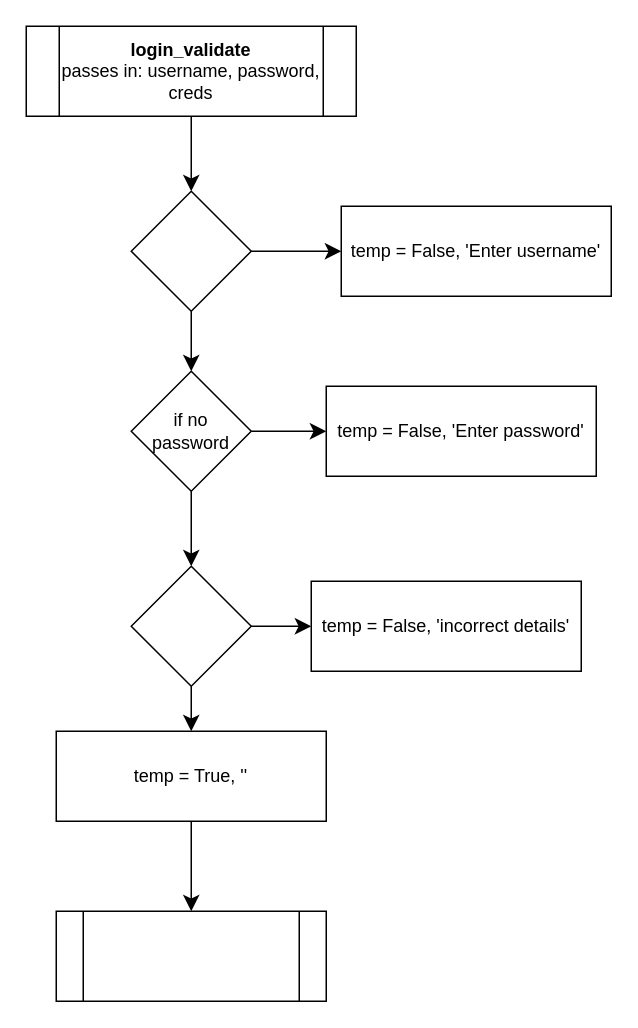
This 638x1028 diagram has some shape labels left out. The box of each missing label's shape, as (x1, y1, x2, y2) in pixels:
if no username: (130, 190, 251, 311)
if username and password correct: (130, 565, 251, 686)
return temp login_validate END: (55, 910, 326, 1001)
